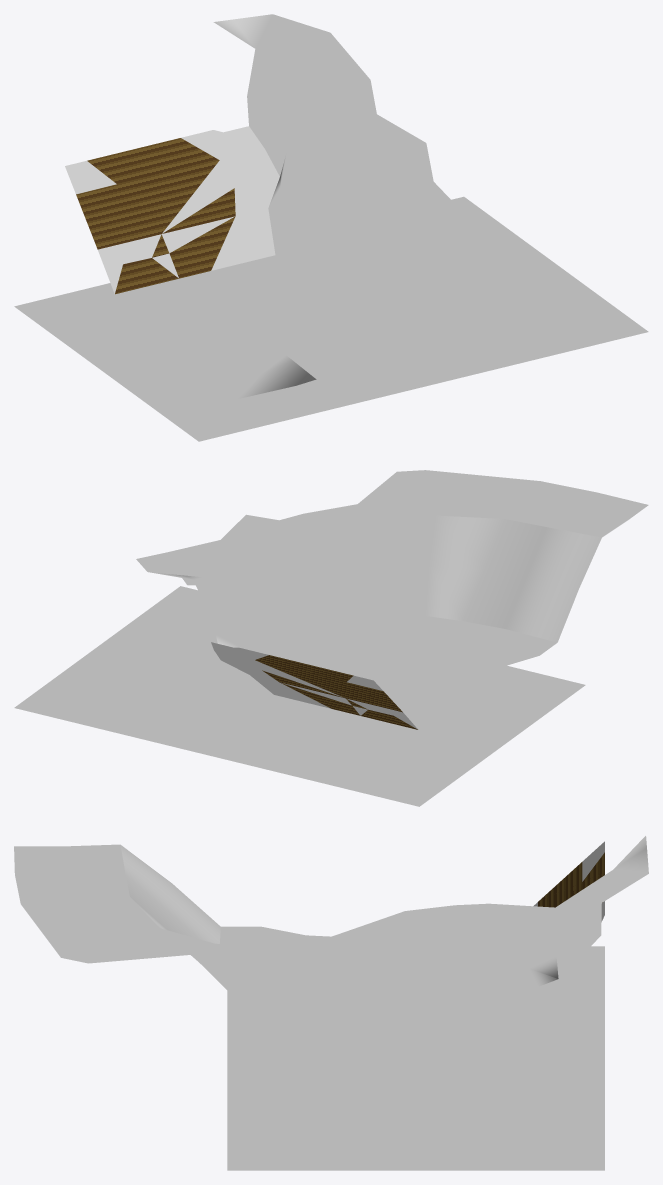
Rendered from leagin02_01_02.obj.
3 renders of one model, top to bottom at view 1: azimuth 30°, elevation 25°; view 2: azimuth 150°, elevation 25°; view 3: azimuth 270°, elevation 25°, orthographic. The views are drawn at different scales.
Parts seen in each view (by area): view 1: out38_t04k_1_lay0_QUADS_VisGroup0, pk_l_iwa5_1_lay0_QUADS_VisGroup0, pk_l_iwa3_1_lay0_QUADS_VisGroup0, out38_t04_1_lay0_QUADS_VisGroup0, pk_l_iwa3_1_lay0_TRIS_VisGroup0, out32_u_kaida_3_lay0_QUADS_VisGroup0, out32_u_kaida_3_lay0_TRIS_VisGroup0, pk_l_iwa5_1_lay0_TRIS_VisGroup0, out32_u_k7_1_lay0_QUADS_VisGroup0, out32_u_k6_1_lay0_TRIS_VisGroup0, out38_t04kw_1_lay0_QUADS_VisGroup0, out32_u_k6_1_lay0_QUADS_VisGroup0 (+3 smaller); view 2: out38_t04k_1_lay0_QUADS_VisGroup0, pk_l_iwa3_1_lay0_QUADS_VisGroup0, pk_l_iwa5_1_lay0_QUADS_VisGroup0, out38_t04_1_lay0_QUADS_VisGroup0, pk_l_iwa3_1_lay0_TRIS_VisGroup0, out38_t04kw_1_lay0_QUADS_VisGroup0, out38_t04_1_lay0_TRIS_VisGroup0, out32_u_kaida_3_lay0_QUADS_VisGroup0, out32_u_kaida_3_lay0_TRIS_VisGroup0, pk_l_iwa5_1_lay0_TRIS_VisGroup0, out32_u_k7_1_lay0_QUADS_VisGroup0, out32_u_k6_1_lay0_TRIS_VisGroup0 (+1 smaller); view 3: out38_t04k_1_lay0_QUADS_VisGroup0, pk_l_iwa3_1_lay0_QUADS_VisGroup0, pk_l_iwa5_1_lay0_QUADS_VisGroup0, pk_l_iwa3_1_lay0_TRIS_VisGroup0, pk_l_iwa5_1_lay0_TRIS_VisGroup0, out32_u_kaida_3_lay0_QUADS_VisGroup0, out38_t04_1_lay0_TRIS_VisGroup0.
Part boxes in pixels (box(x1,y1,x2,y2)): out38_t04k_1_lay0_QUADS_VisGroup0: box(14, 196, 648, 441); pk_l_iwa5_1_lay0_QUADS_VisGroup0: box(286, 80, 544, 394); pk_l_iwa3_1_lay0_QUADS_VisGroup0: box(237, 49, 439, 399); out38_t04_1_lay0_QUADS_VisGroup0: box(129, 272, 342, 364); pk_l_iwa3_1_lay0_TRIS_VisGroup0: box(255, 49, 332, 262); out32_u_kaida_3_lay0_QUADS_VisGroup0: box(76, 150, 235, 294); out32_u_kaida_3_lay0_TRIS_VisGroup0: box(117, 138, 235, 257); pk_l_iwa5_1_lay0_TRIS_VisGroup0: box(213, 14, 370, 128); out32_u_k7_1_lay0_QUADS_VisGroup0: box(220, 126, 279, 262); out32_u_k6_1_lay0_TRIS_VisGroup0: box(98, 160, 242, 293); out38_t04kw_1_lay0_QUADS_VisGroup0: box(227, 255, 387, 399); out32_u_k6_1_lay0_QUADS_VisGroup0: box(65, 160, 161, 264); out38_t04k_1_lay0_QUADS_VisGroup0: box(14, 586, 585, 806); pk_l_iwa3_1_lay0_QUADS_VisGroup0: box(195, 515, 601, 659); pk_l_iwa5_1_lay0_QUADS_VisGroup0: box(168, 470, 648, 585); out38_t04_1_lay0_QUADS_VisGroup0: box(327, 637, 503, 721); pk_l_iwa3_1_lay0_TRIS_VisGroup0: box(189, 561, 275, 654); out38_t04kw_1_lay0_QUADS_VisGroup0: box(289, 616, 557, 664); out38_t04_1_lay0_TRIS_VisGroup0: box(388, 634, 539, 666); out32_u_kaida_3_lay0_QUADS_VisGroup0: box(280, 666, 417, 729); out32_u_kaida_3_lay0_TRIS_VisGroup0: box(255, 655, 367, 709); pk_l_iwa5_1_lay0_TRIS_VisGroup0: box(136, 552, 251, 579); out32_u_k7_1_lay0_QUADS_VisGroup0: box(211, 642, 302, 701); out32_u_k6_1_lay0_TRIS_VisGroup0: box(255, 660, 417, 729); out38_t04k_1_lay0_QUADS_VisGroup0: box(227, 926, 604, 1170); pk_l_iwa3_1_lay0_QUADS_VisGroup0: box(120, 845, 601, 1029); pk_l_iwa5_1_lay0_QUADS_VisGroup0: box(14, 844, 558, 963); pk_l_iwa3_1_lay0_TRIS_VisGroup0: box(441, 912, 568, 1020); pk_l_iwa5_1_lay0_TRIS_VisGroup0: box(489, 836, 648, 924); out32_u_kaida_3_lay0_QUADS_VisGroup0: box(538, 852, 604, 907); out38_t04_1_lay0_TRIS_VisGroup0: box(261, 927, 305, 951).
Size of the model in its own units: 832 by 382 by 996.
